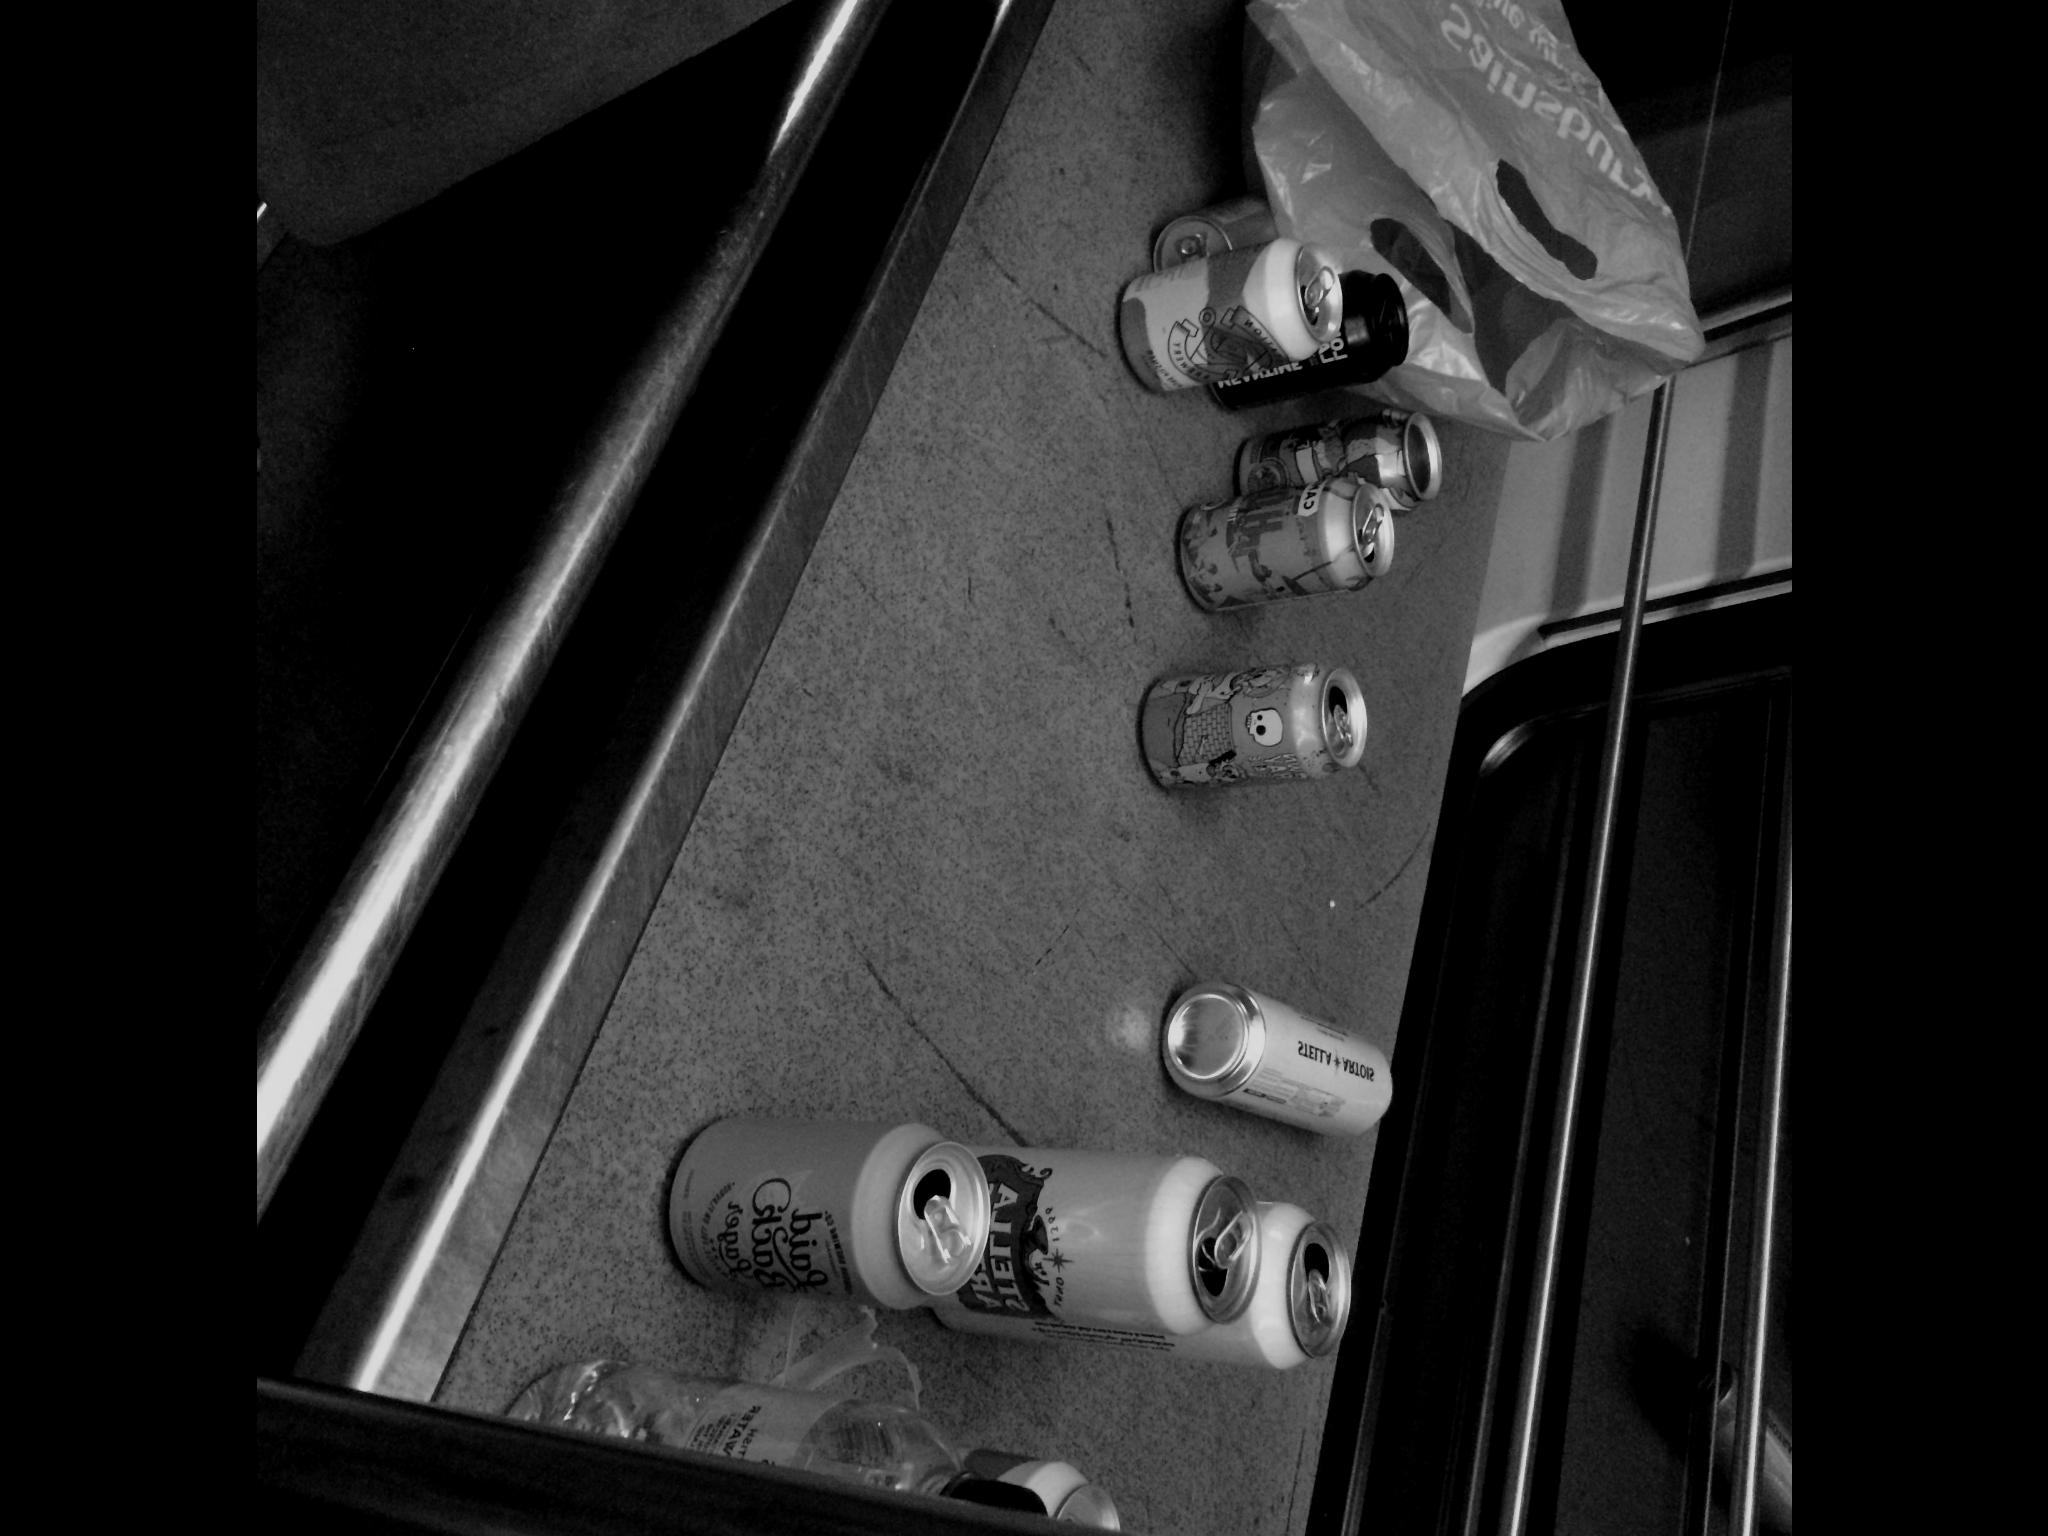bottle: (495, 1320, 1041, 1524)
